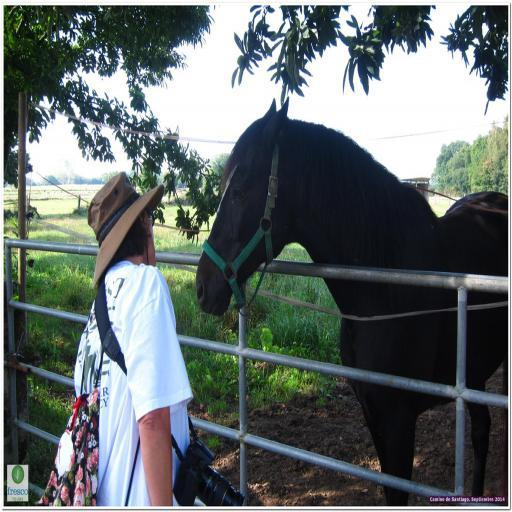Horse: (195, 98, 510, 512)
